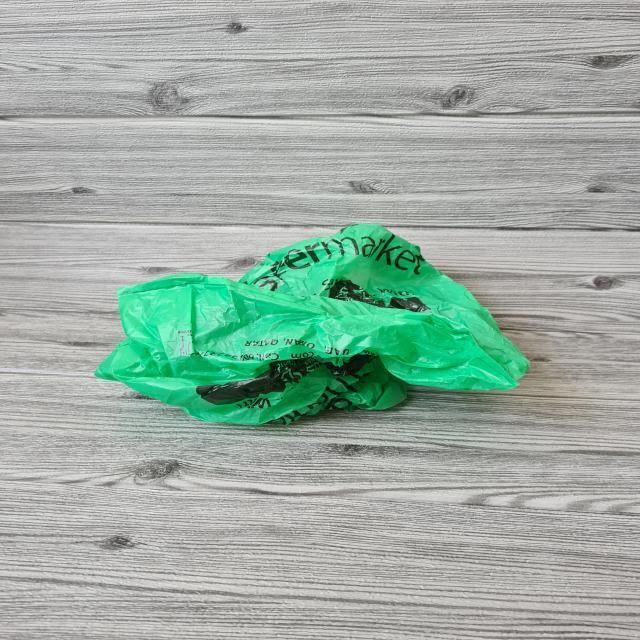Plastic_Bag: (85, 208, 532, 439)
